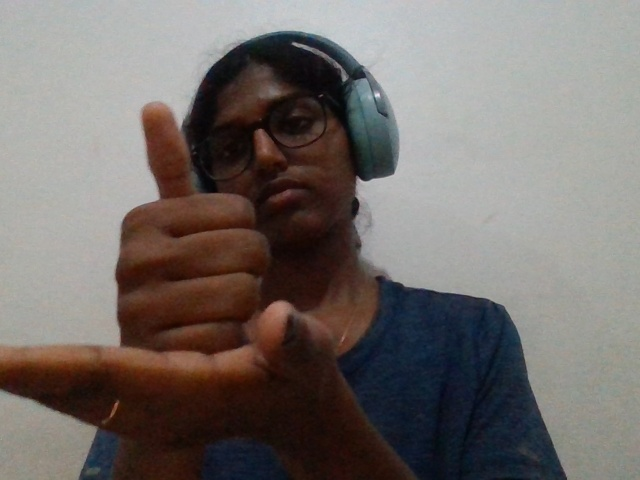Help: (3, 77, 438, 480)
